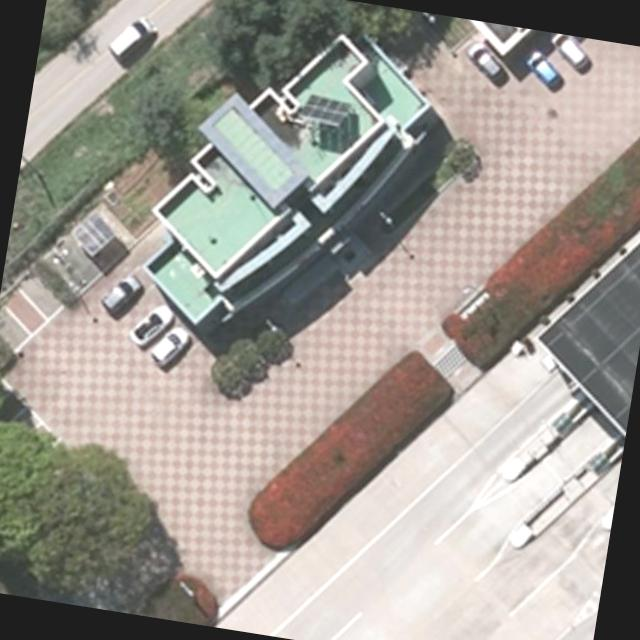solar: (300, 90, 356, 132)
